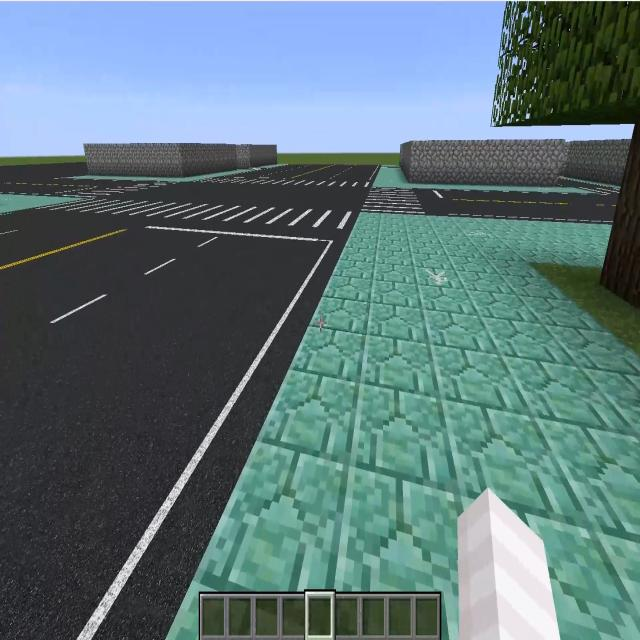crosswalk: (48, 199, 339, 228), (203, 176, 369, 187), (64, 182, 174, 197), (363, 188, 423, 213)
road: (2, 210, 349, 635), (101, 180, 367, 212), (422, 188, 621, 219), (1, 162, 143, 195), (234, 164, 381, 180)
sidewalk: (160, 210, 640, 639), (372, 167, 589, 194), (73, 169, 258, 182), (0, 193, 84, 214)
